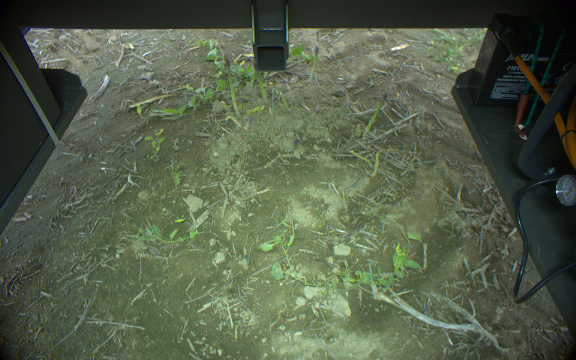aspa: (360, 90, 387, 139), (222, 57, 240, 116), (250, 62, 271, 108), (307, 43, 320, 86), (277, 89, 288, 111)
